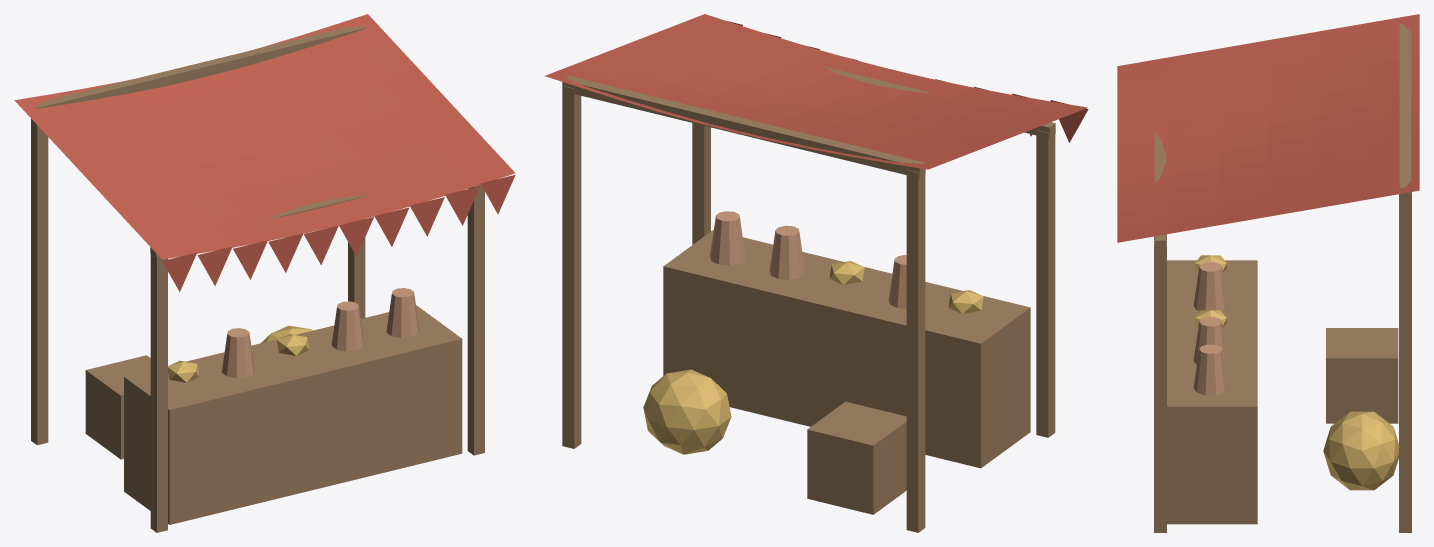
The model's file is SM_DST_Settle_Stall_A_Frac.fbx.
3 views of the same model, side by side, from view 1: azimuth 30°, elevation 25°; view 2: azimuth 150°, elevation 25°; view 3: azimuth 270°, elevation 25° (orthographic). The views are drawn at different scales.
Parts seen in each view (by area): view 1: SM_DST_Settle_Stall_A_p07, SM_DST_Settle_Stall_A_p00, SM_DST_Settle_Stall_A_p01, SM_DST_Settle_Stall_A_p03, SM_DST_Settle_Stall_A_p02, SM_DST_Settle_Stall_A_p04, SM_DST_Settle_Stall_A_p05, SM_DST_Settle_Stall_A_p06; view 2: SM_DST_Settle_Stall_A_p07, SM_DST_Settle_Stall_A_p06, SM_DST_Settle_Stall_A_p00, SM_DST_Settle_Stall_A_p01, SM_DST_Settle_Stall_A_p02, SM_DST_Settle_Stall_A_p03, SM_DST_Settle_Stall_A_p04; view 3: SM_DST_Settle_Stall_A_p01, SM_DST_Settle_Stall_A_p00, SM_DST_Settle_Stall_A_p07, SM_DST_Settle_Stall_A_p02, SM_DST_Settle_Stall_A_p06, SM_DST_Settle_Stall_A_p04, SM_DST_Settle_Stall_A_p03, SM_DST_Settle_Stall_A_p05.
Part boxes in pixels (x1,y1,x2,y2): SM_DST_Settle_Stall_A_p07: [31, 323, 344, 532]; SM_DST_Settle_Stall_A_p00: [300, 14, 515, 258]; SM_DST_Settle_Stall_A_p01: [14, 36, 303, 327]; SM_DST_Settle_Stall_A_p03: [101, 191, 373, 389]; SM_DST_Settle_Stall_A_p02: [314, 219, 484, 416]; SM_DST_Settle_Stall_A_p04: [122, 85, 352, 200]; SM_DST_Settle_Stall_A_p05: [338, 391, 484, 483]; SM_DST_Settle_Stall_A_p06: [261, 238, 365, 342]; SM_DST_Settle_Stall_A_p07: [788, 254, 1055, 532]; SM_DST_Settle_Stall_A_p06: [562, 284, 801, 454]; SM_DST_Settle_Stall_A_p00: [545, 14, 858, 231]; SM_DST_Settle_Stall_A_p01: [619, 92, 1021, 408]; SM_DST_Settle_Stall_A_p02: [562, 136, 843, 298]; SM_DST_Settle_Stall_A_p03: [841, 61, 1088, 279]; SM_DST_Settle_Stall_A_p04: [688, 71, 998, 130]; SM_DST_Settle_Stall_A_p01: [1242, 14, 1419, 163]; SM_DST_Settle_Stall_A_p00: [1117, 156, 1419, 332]; SM_DST_Settle_Stall_A_p07: [1154, 234, 1398, 423]; SM_DST_Settle_Stall_A_p02: [1154, 317, 1411, 495]; SM_DST_Settle_Stall_A_p06: [1193, 349, 1411, 532]; SM_DST_Settle_Stall_A_p04: [1156, 58, 1349, 175]; SM_DST_Settle_Stall_A_p03: [1117, 44, 1242, 180]; SM_DST_Settle_Stall_A_p05: [1154, 467, 1218, 532].
Size of the model in its own units: 2.9 by 2.68 by 2.1.
